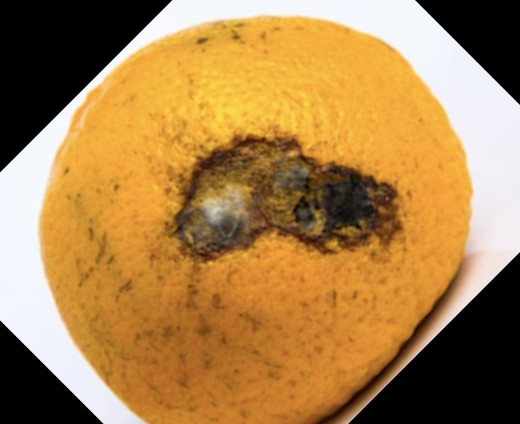rotten_orange: (39, 15, 473, 424)
